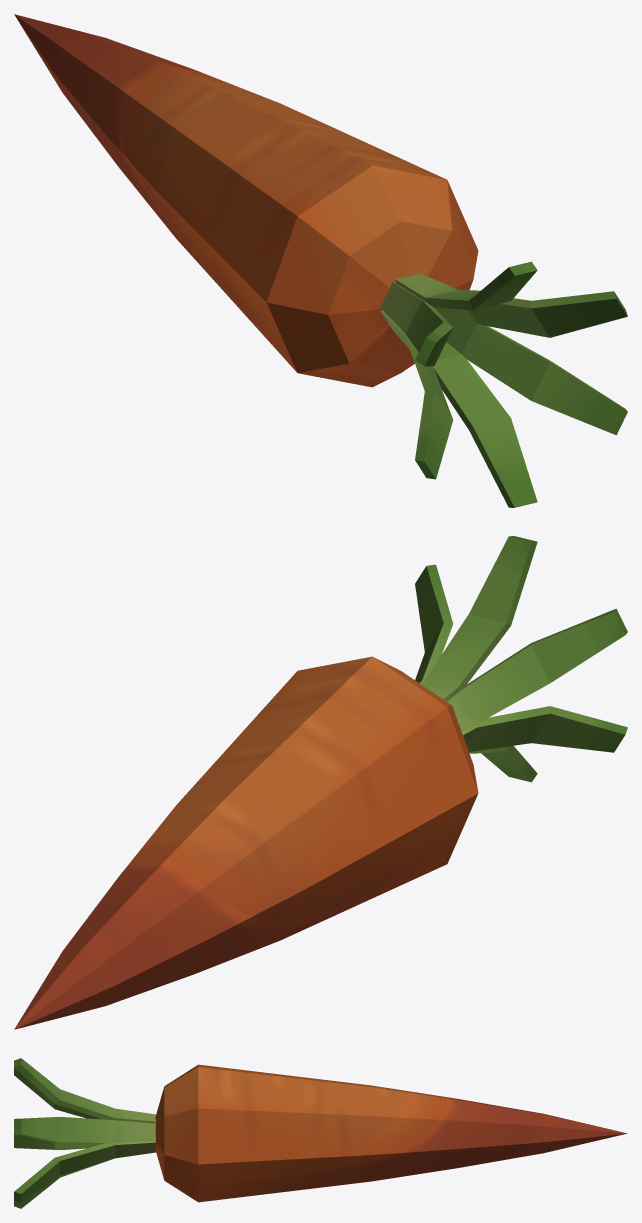
File: Carrot.fbx
3 views of the same model, one above another, from view 1: azimuth 30°, elevation 25°; view 2: azimuth 150°, elevation 25°; view 3: azimuth 270°, elevation 25° (orthographic). The views are drawn at different scales.
Parts seen in each view (by area): view 1: Carrot_base; view 2: Carrot_base; view 3: Carrot_base.
Part boxes in pixels (x1,y1,x2,y2): Carrot_base: (14, 14, 627, 507); Carrot_base: (14, 536, 627, 1029); Carrot_base: (14, 1058, 627, 1208).
Bounding box in the file's own units: 126 × 137 × 527.
1 material, 1 textured.
